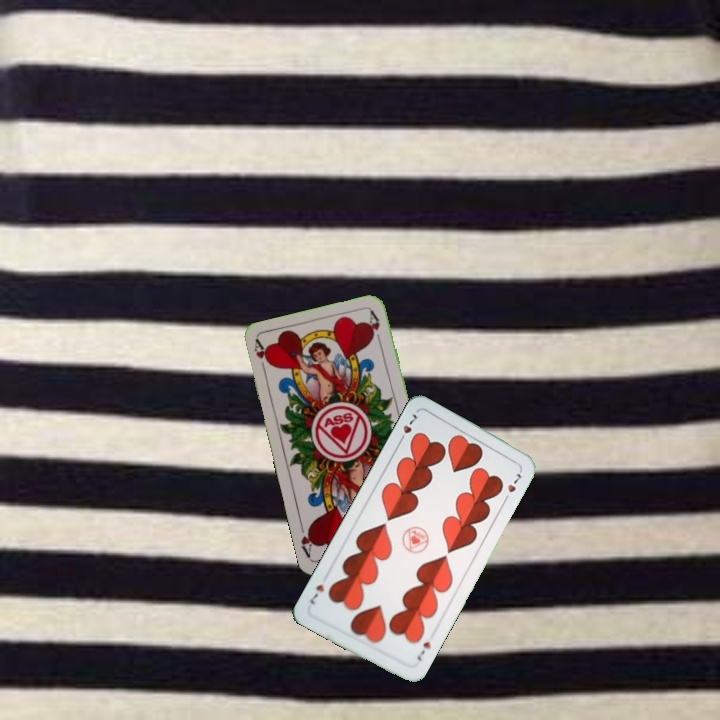H7: (394, 409, 420, 446), (413, 637, 433, 664)
HA: (250, 337, 273, 377)
